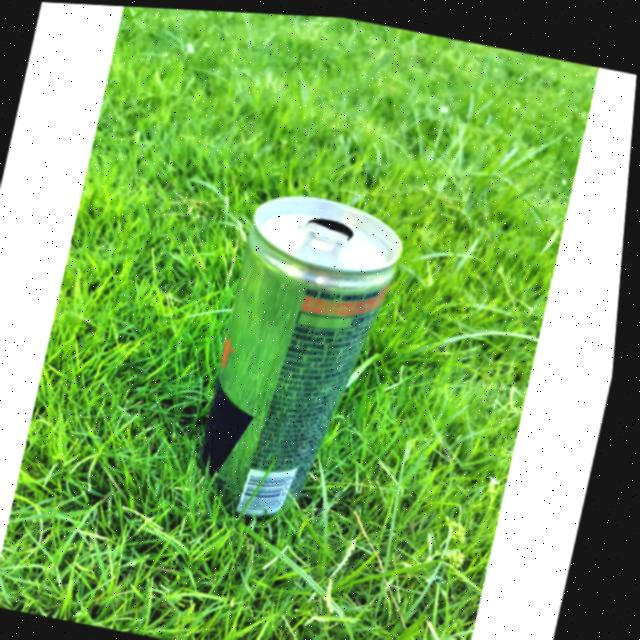Redbull: (185, 214, 408, 524)
